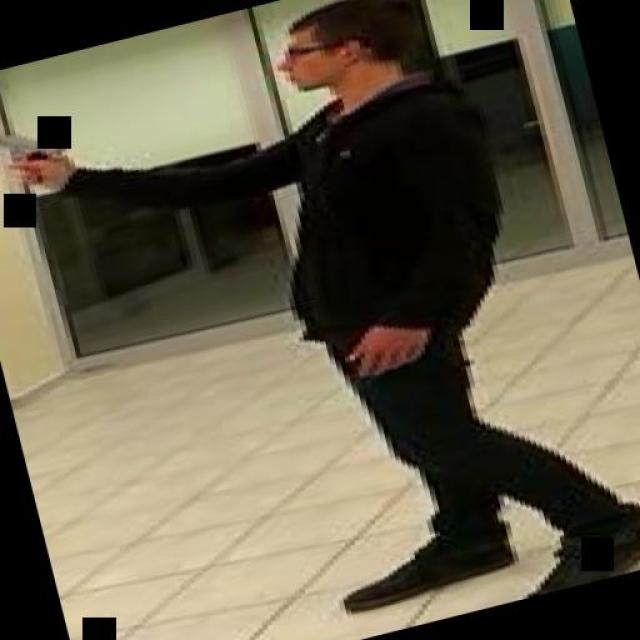gun: (0, 112, 72, 196)
